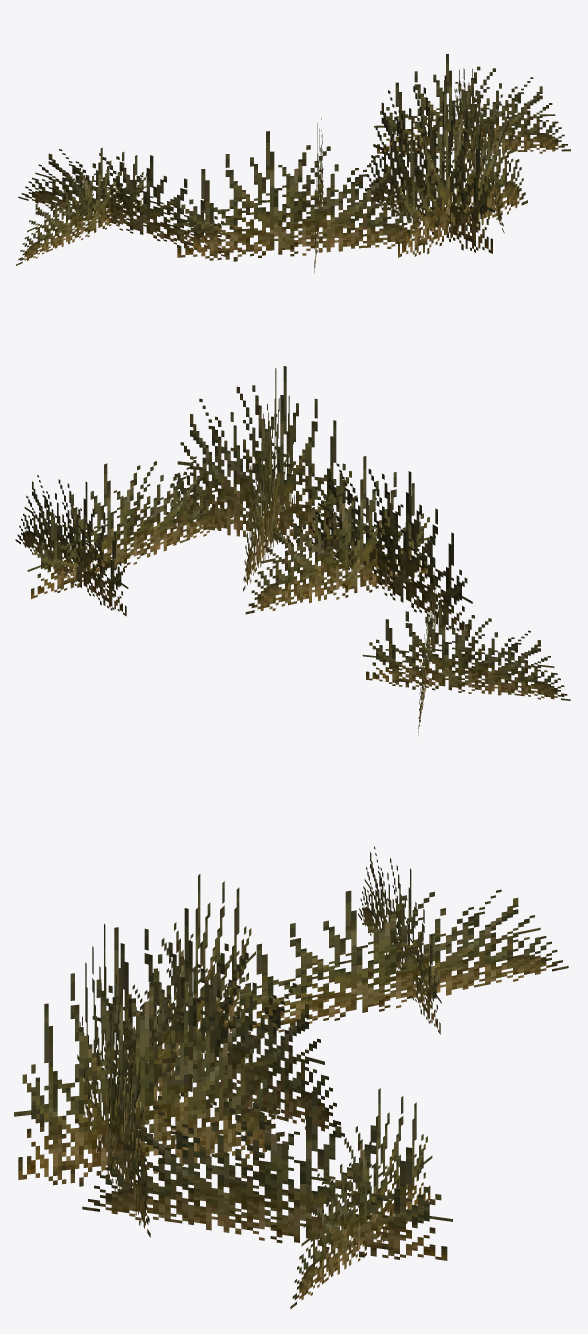
File: M4_Grasses2.glb
The picture shows the model from 3 angles, top to bottom: view 1: azimuth 30°, elevation 25°; view 2: azimuth 150°, elevation 25°; view 3: azimuth 270°, elevation 25°; orthographic projection. The views are drawn at different scales.
Visible parts, largest first — view 1: M4_GRASSES2; view 2: M4_GRASSES2; view 3: M4_GRASSES2.
Part boxes in pixels (bbox=[...]): M4_GRASSES2: bbox=[16, 54, 570, 273]; M4_GRASSES2: bbox=[15, 366, 570, 735]; M4_GRASSES2: bbox=[14, 846, 568, 1309].
Size of the model in its own units: 2.63 by 0.895 by 1.56.
1 material, 1 textured.
